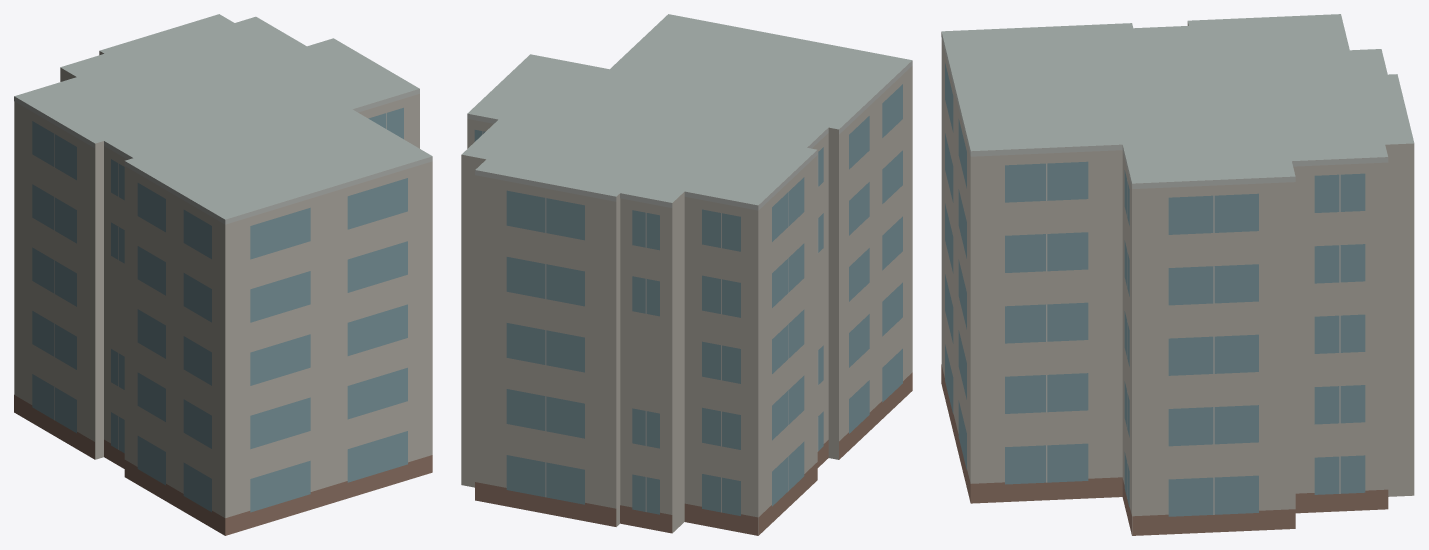
Rendered from survey-upis-32640658.glb.
3 views of the same model, side by side, from view 1: azimuth 30°, elevation 25°; view 2: azimuth 150°, elevation 25°; view 3: azimuth 270°, elevation 25° (orthographic). The views are drawn at different scales.
Visible parts, largest first — view 1: survey-upis-32640658.tmp; view 2: survey-upis-32640658.tmp; view 3: survey-upis-32640658.tmp.
Part boxes in pixels (left/top/right/bottom): survey-upis-32640658.tmp: left=14, top=14, right=432, bottom=535; survey-upis-32640658.tmp: left=461, top=14, right=912, bottom=535; survey-upis-32640658.tmp: left=941, top=14, right=1414, bottom=535.
Bounding box in the file's own units: 16.01 × 15.5 × 18.87.
